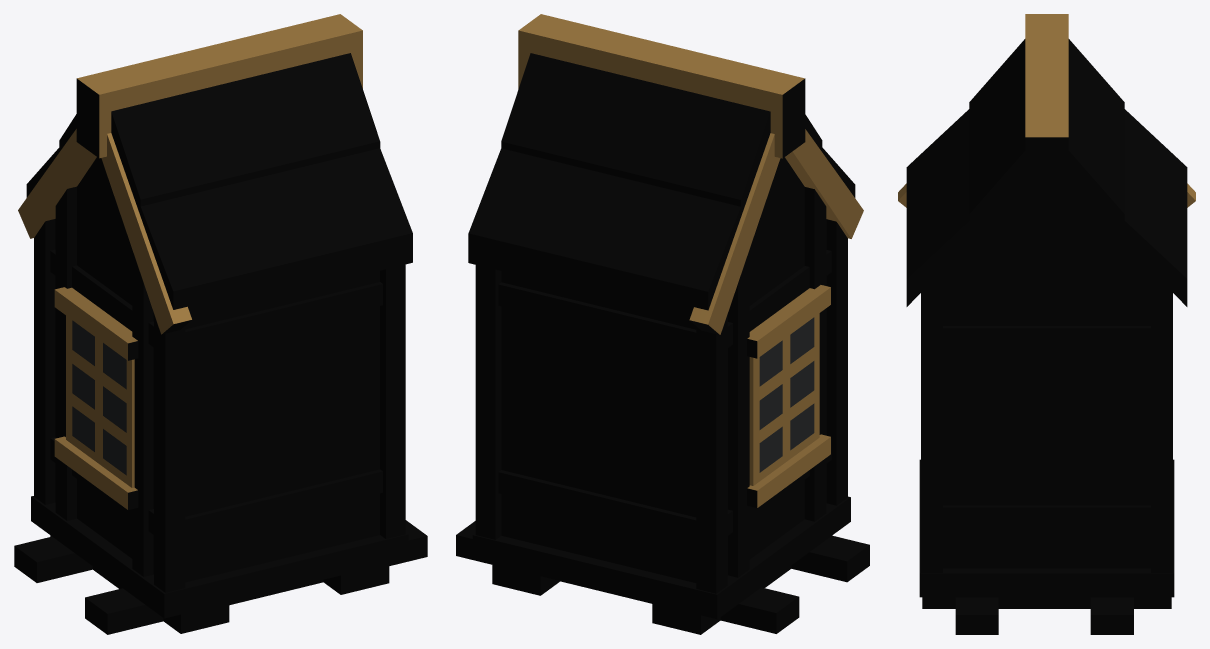
File: HouseAdd_Window.gltf
3 renders of one model, left to right at view 1: azimuth 30°, elevation 25°; view 2: azimuth 150°, elevation 25°; view 3: azimuth 270°, elevation 25°, orthographic. The views are drawn at different scales.
Parts seen in each view (by area): view 1: SF_Bld_HouseAdd_Window_01; view 2: SF_Bld_HouseAdd_Window_01; view 3: SF_Bld_HouseAdd_Window_01.
Part boxes in pixels (bbox=[...]): SF_Bld_HouseAdd_Window_01: bbox=[14, 14, 427, 634]; SF_Bld_HouseAdd_Window_01: bbox=[456, 14, 869, 634]; SF_Bld_HouseAdd_Window_01: bbox=[898, 14, 1195, 634].
Bounding box in the file's own units: 0.0428 × 0.0648 × 0.0361.
Materials: 1 (1 with a texture image).
